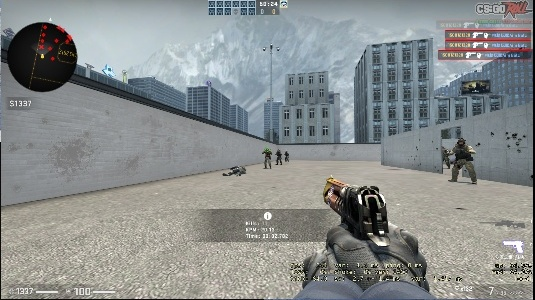body: (448, 137, 478, 185), (262, 147, 273, 170), (440, 146, 450, 169), (274, 148, 282, 165), (283, 149, 290, 162)
head: (457, 137, 466, 146), (265, 146, 270, 152), (441, 146, 445, 151), (277, 148, 281, 152), (285, 150, 288, 153)
